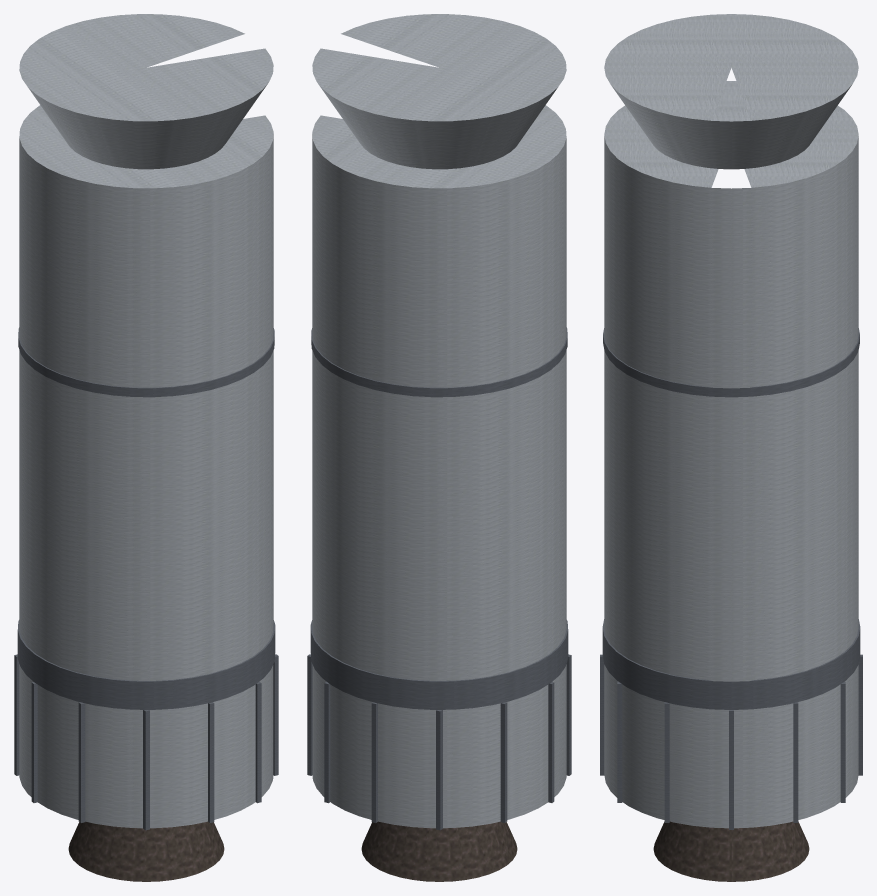
File: rocketbody.glb
3 renders of one model, left to right at view 1: azimuth 30°, elevation 25°; view 2: azimuth 150°, elevation 25°; view 3: azimuth 270°, elevation 25°, orthographic.
Bounding box in the file's own units: 3.2 × 10.5 × 3.2.
Materials: 3 (3 with a texture image).
